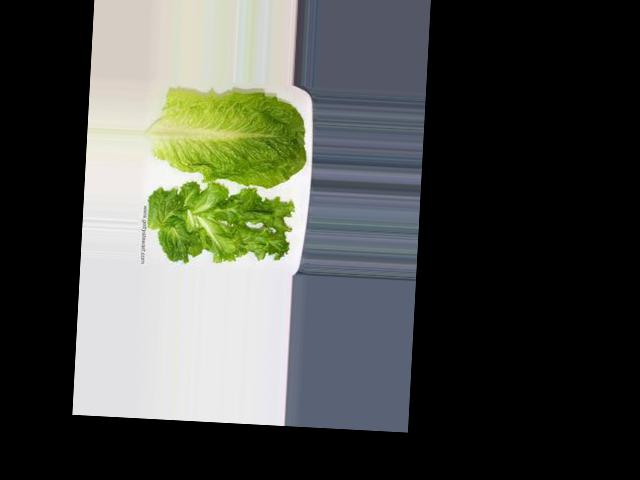lettuce: (151, 93, 301, 181)
